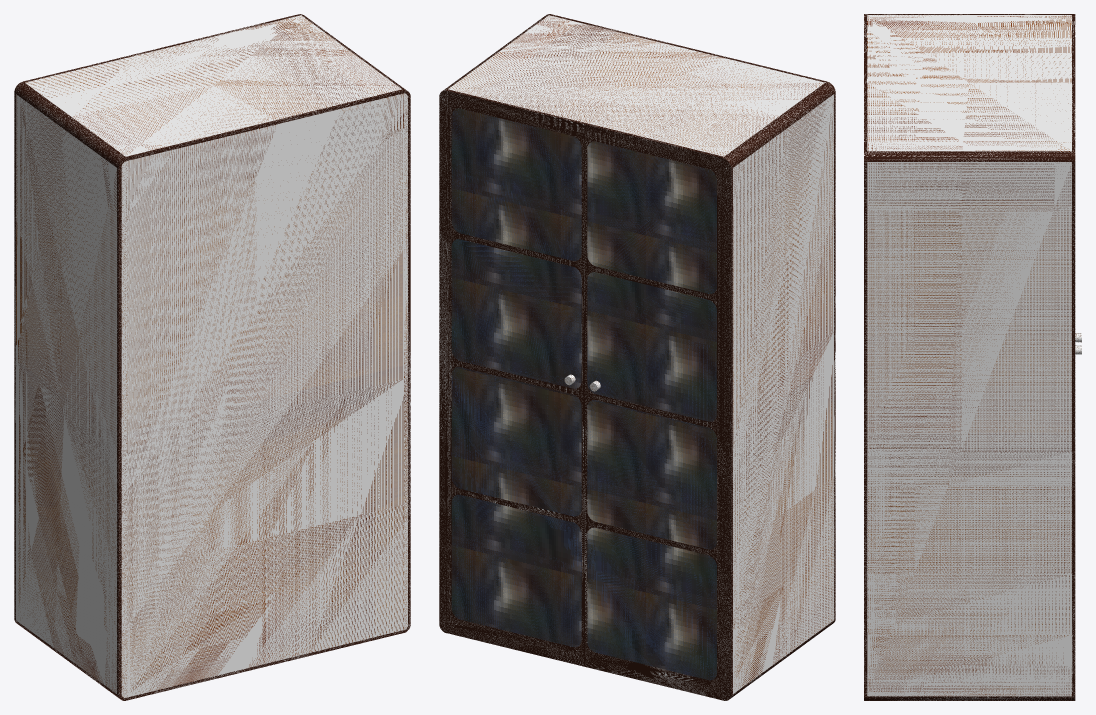
3 renders of one model, left to right at view 1: azimuth 30°, elevation 25°; view 2: azimuth 150°, elevation 25°; view 3: azimuth 270°, elevation 25°, orthographic.
Visible parts, largest first — view 1: mesh1_mesh1-geometry; view 2: mesh1_mesh1-geometry; view 3: mesh1_mesh1-geometry.
Boxes of the visible parts, box(x1,y1,x2,y2) form: mesh1_mesh1-geometry: box(14, 14, 410, 700); mesh1_mesh1-geometry: box(439, 14, 835, 700); mesh1_mesh1-geometry: box(864, 14, 1081, 700).
Size of the model in its own units: 0.4684 by 0.8314 by 0.2989.
